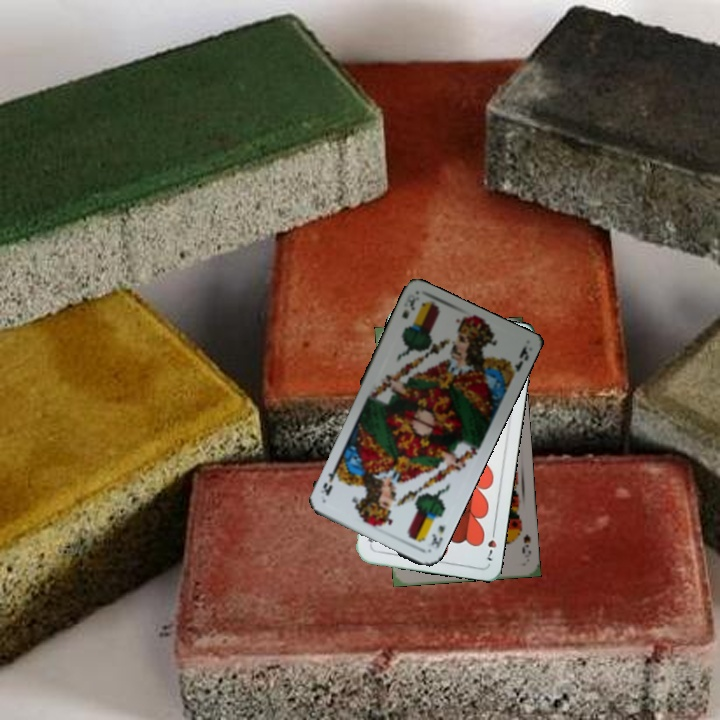EK: (427, 521, 447, 551), (398, 291, 418, 321)
H7: (483, 524, 499, 564)
S9: (513, 521, 533, 556)
